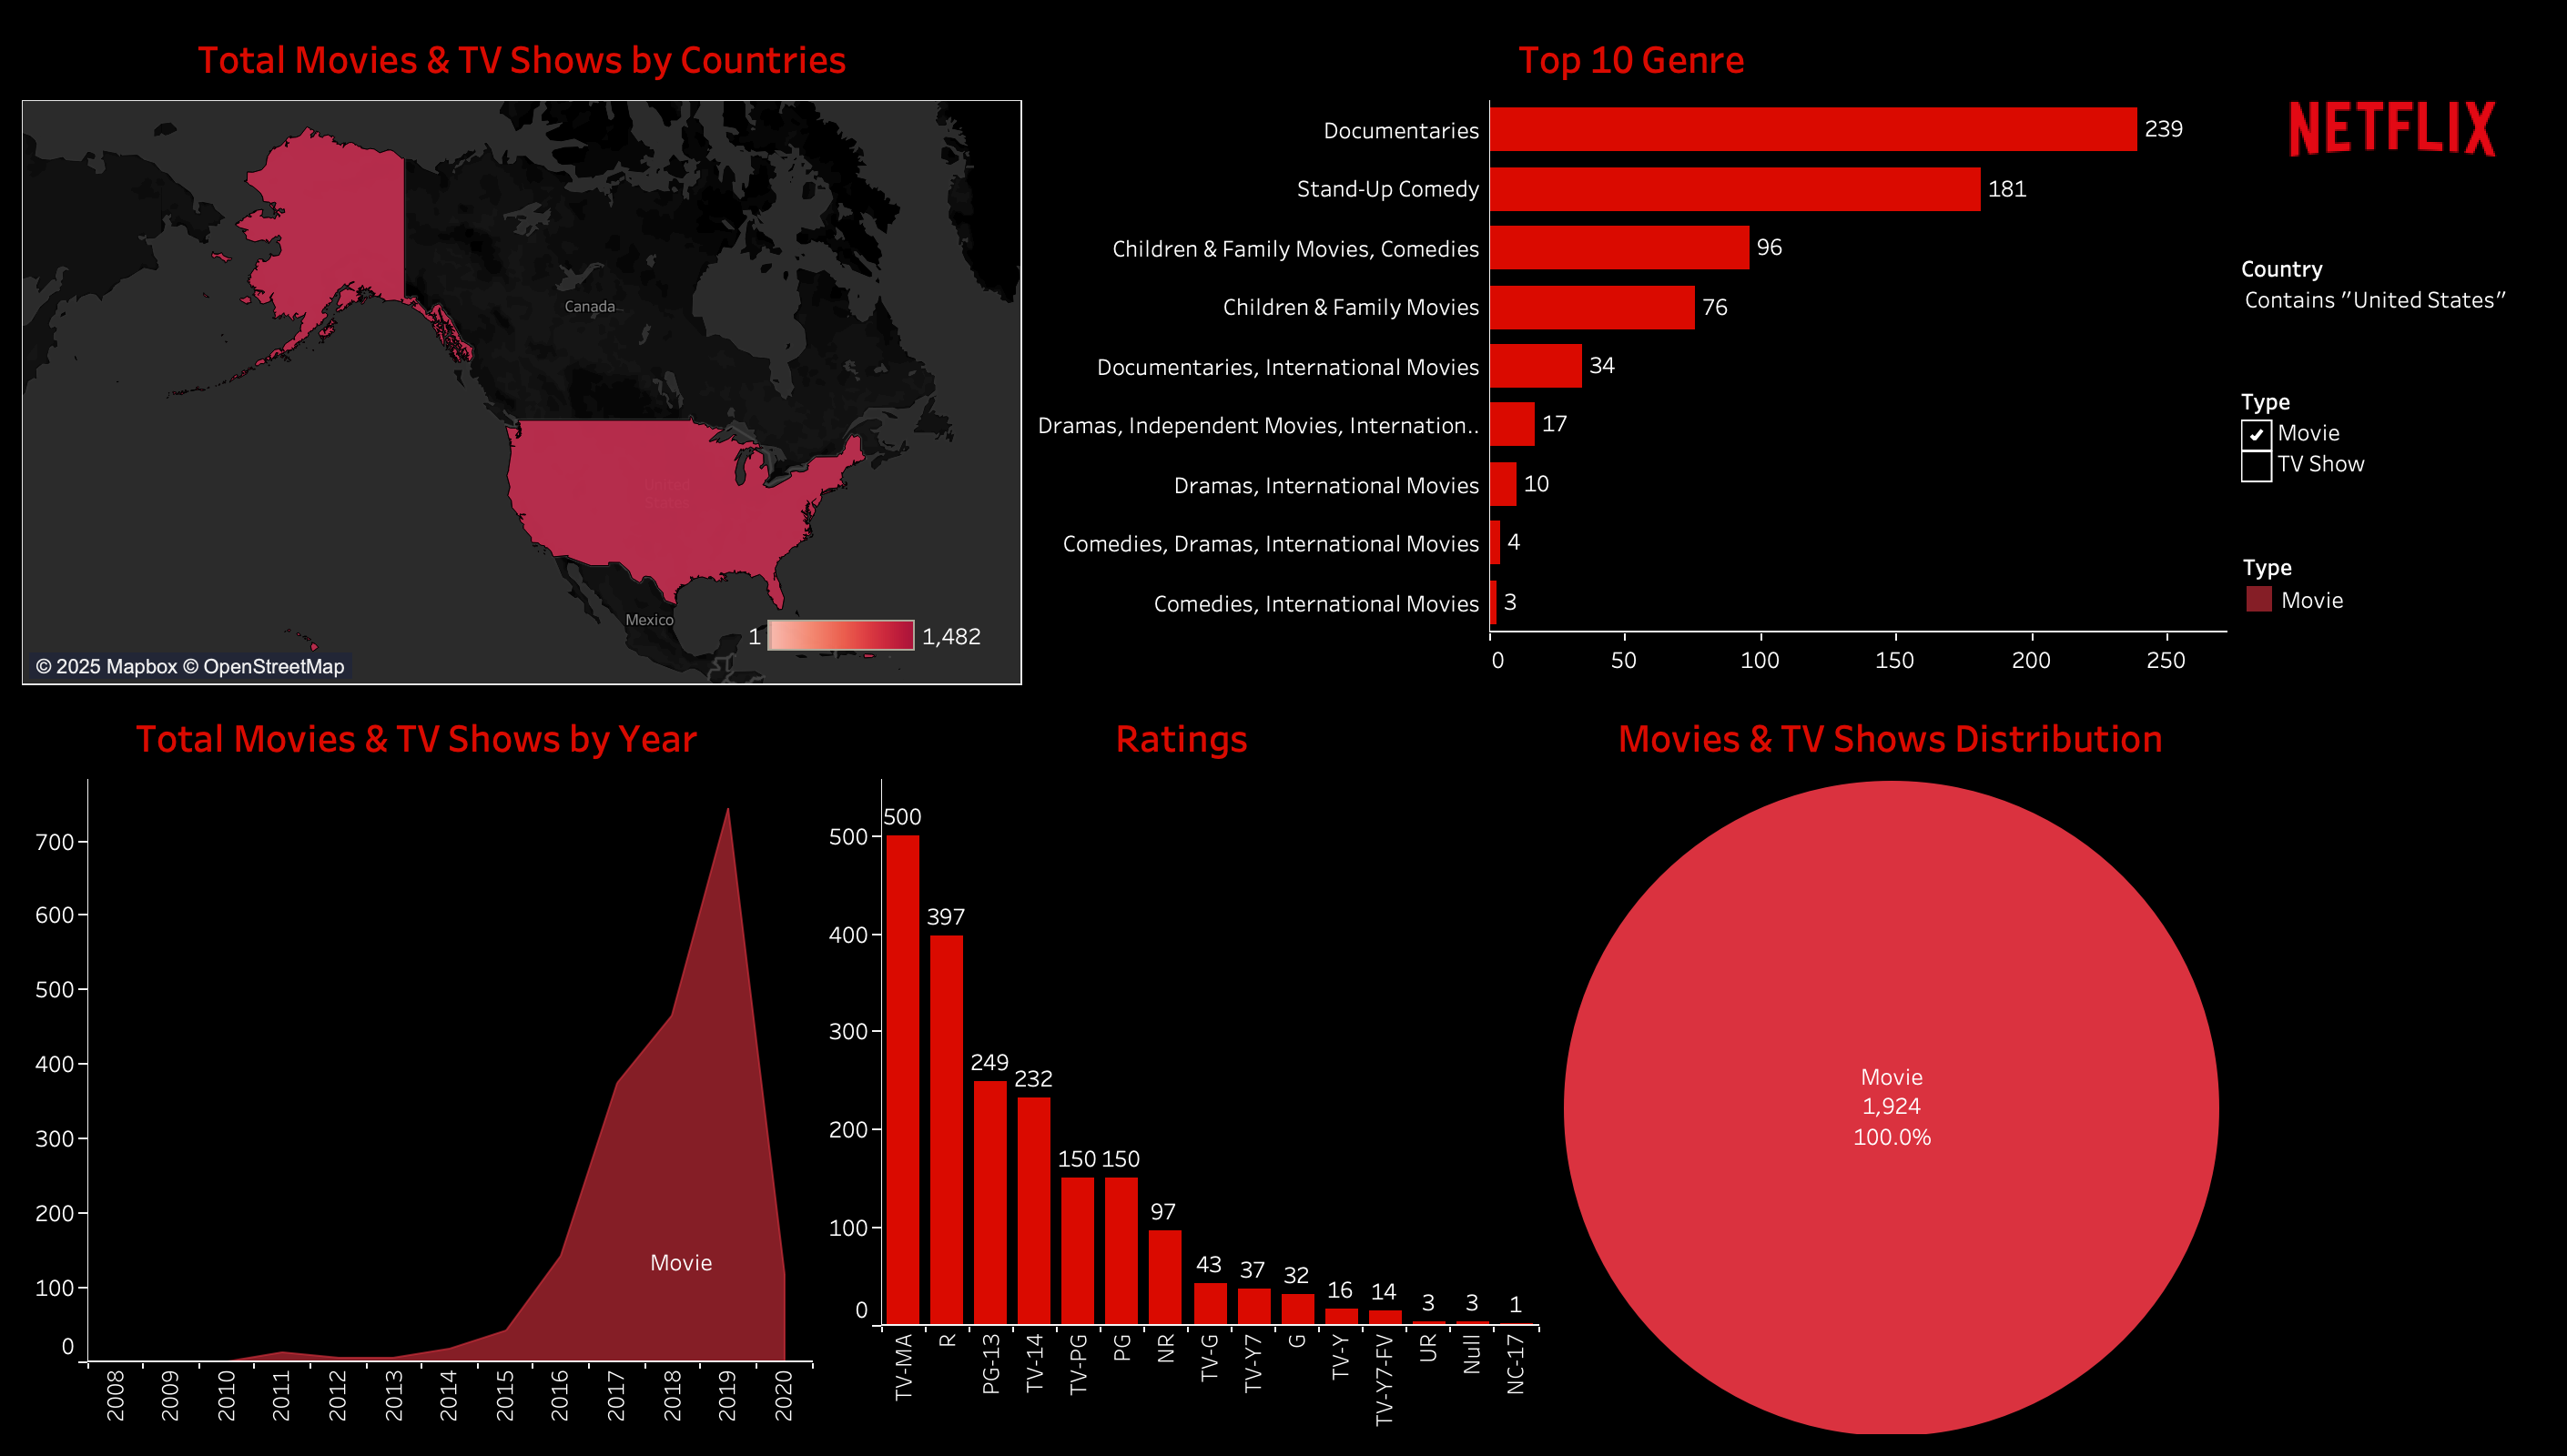

The dashboard page shown, as its layout file describes it:
{"tool":"tableau","page":{"name":"Netflix","canvas":[1410,800],"ordinal":0},"visuals":[{"type":"worksheet","title":"Total Movies & TV Shows by Countries","mark":"Multipolygon","box":[8,8,558.3,373]},{"type":"worksheet","title":"Top 10 Genre","mark":"Automatic","rows":["listed_in"],"cols":["show_id"],"box":[566.3,8,660.7,373]},{"type":"image","param":"/Users/siya/Downloads/Netflix Dashboard/Netflix logo.png","box":[1227,8,175,126]},{"type":"filter","title":"Total Movies & TV Shows by Year","param":"[federated.1kptx0v0jbjw831bnegm413axtkj].[none:country:nk]","box":[1227,134,175,73]},{"type":"filter","title":"Total Movies & TV Shows by Year","param":"[federated.1kptx0v0jbjw831bnegm413axtkj].[none:type:nk]","box":[1227,207,175,90]},{"type":"legend","title":"Total Movies & TV Shows by Year","param":"[federated.1kptx0v0jbjw831bnegm413axtkj].[none:type:nk]","box":[1227,297,175,82]},{"type":"legend","title":"Total Movies & TV Shows by Countries","param":"[federated.1kptx0v0jbjw831bnegm413axtkj].[ctd:show_id:qk]","box":[407,337,137,34]},{"type":"worksheet","title":"Total Movies & TV Shows by Year","mark":"Area","rows":["show_id"],"cols":["date_added"],"box":[8,381,442.4,411]},{"type":"worksheet","title":"Ratings","mark":"Automatic","rows":["show_id"],"cols":["rating"],"box":[450.4,381,399.3,411]},{"type":"worksheet","title":"Movies & TV Shows Distribution","mark":"Circle","box":[849.7,381,377.3,411]}]}

Visuals, with their boxes in screenshot pixels (x1, y1, x2, y2), scaled from the page's 1410x800 canvas onto the 2567x1456 screenshot:
"Total Movies & TV Shows by Countries" worksheet (Multipolygon marks): rect(15, 15, 1031, 693)
"Top 10 Genre" worksheet: rect(1031, 15, 2234, 693)
image: rect(2234, 15, 2552, 244)
"Total Movies & TV Shows by Year" filter: rect(2234, 244, 2552, 377)
"Total Movies & TV Shows by Year" filter: rect(2234, 377, 2552, 541)
"Total Movies & TV Shows by Year" legend: rect(2234, 541, 2552, 690)
"Total Movies & TV Shows by Countries" legend: rect(741, 613, 990, 675)
"Total Movies & TV Shows by Year" worksheet (Area marks): rect(15, 693, 820, 1441)
"Ratings" worksheet: rect(820, 693, 1547, 1441)
"Movies & TV Shows Distribution" worksheet (Circle marks): rect(1547, 693, 2234, 1441)
